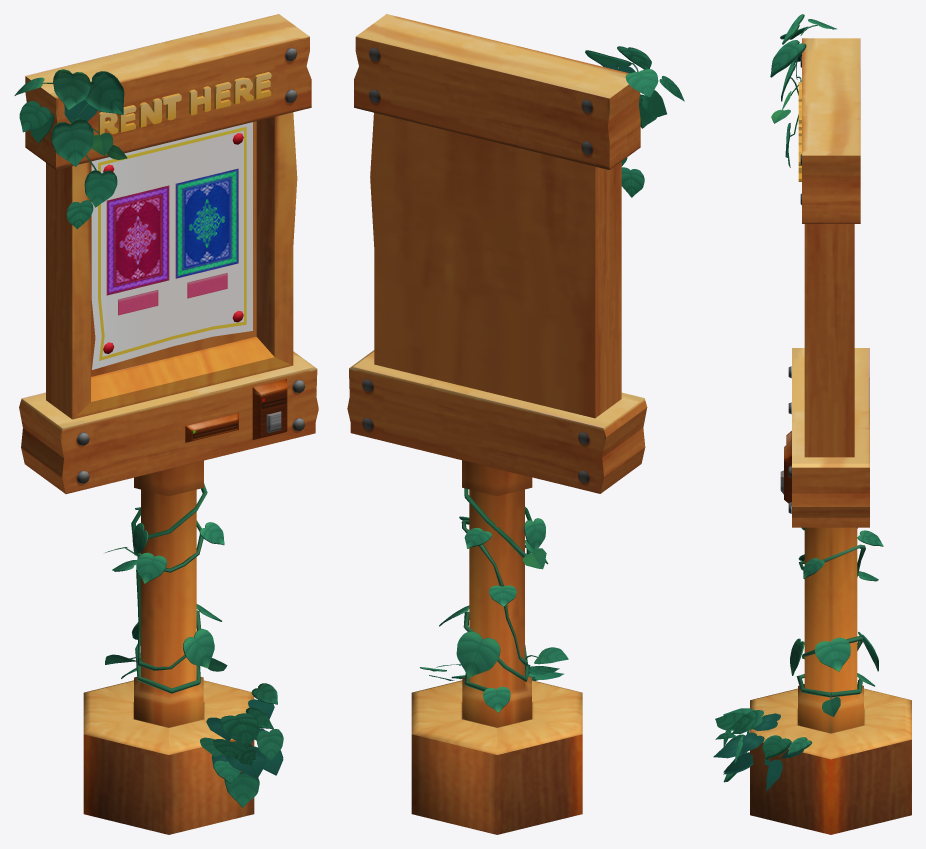
Rendered from VE_Kiosk_010.FBX.
3 views of the same model, side by side, from view 1: azimuth 30°, elevation 25°; view 2: azimuth 150°, elevation 25°; view 3: azimuth 270°, elevation 25° (orthographic). The views are drawn at different scales.
Parts seen in each view (by area): view 1: VE_Kiosk_010, Ivy; view 2: VE_Kiosk_010, Ivy; view 3: VE_Kiosk_010, Ivy.
Boxes of the visible parts, x1=… form: VE_Kiosk_010: x1=19, y1=14, x2=318, y2=834; Ivy: x1=14, y1=69, x2=283, y2=807; VE_Kiosk_010: x1=347, y1=14, x2=647, y2=834; Ivy: x1=420, y1=46, x2=684, y2=712; VE_Kiosk_010: x1=750, y1=38, x2=911, y2=834; Ivy: x1=713, y1=14, x2=883, y2=791.
Size of the model in its own units: 71.68 by 177 by 44.01.
